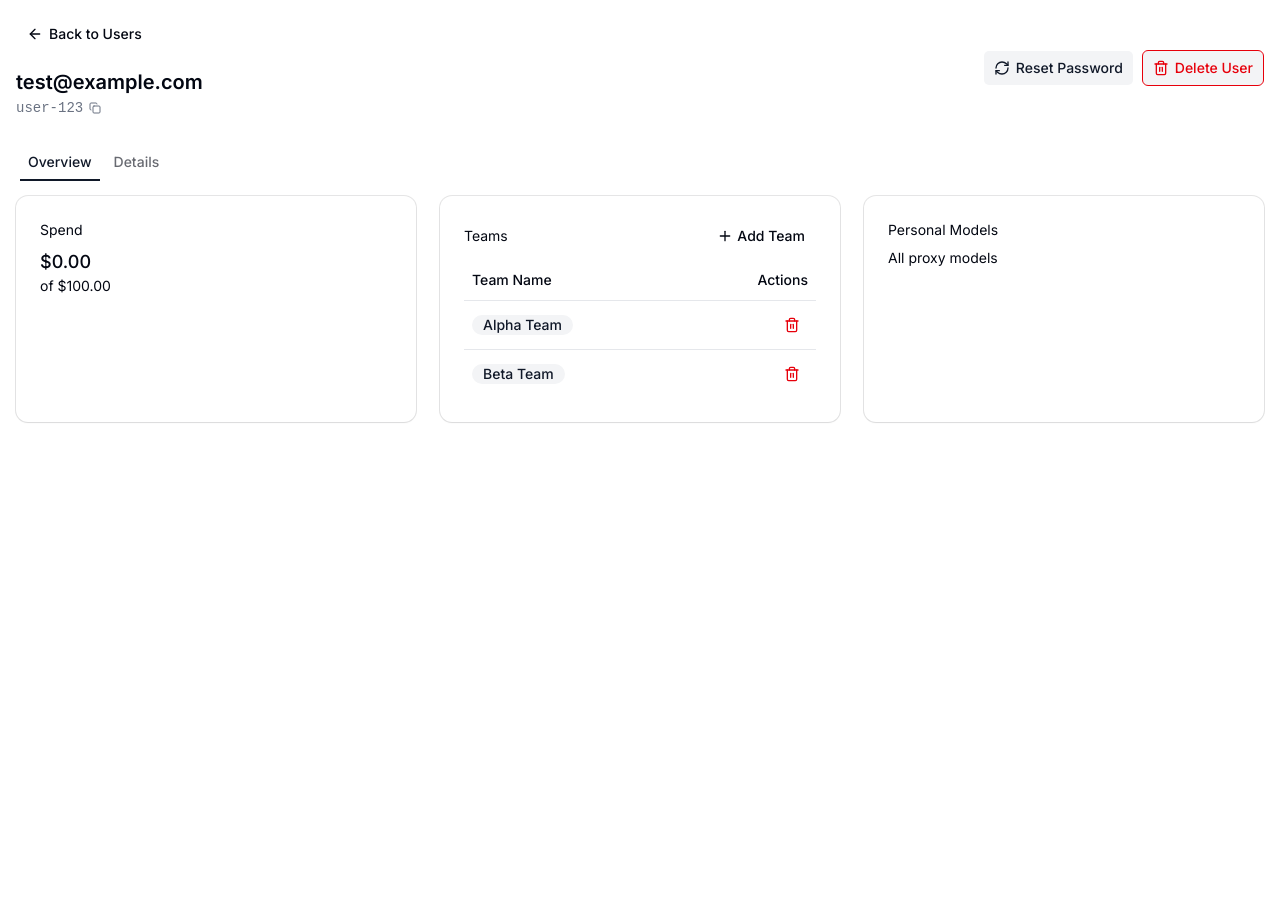
Test: UserInfoView › should open the add team modal when Add Team is clicked
This screenshot has width=1280, height=900.
Step 1. Click the button "Add Team" → (761, 236), box [706,220,816,252]
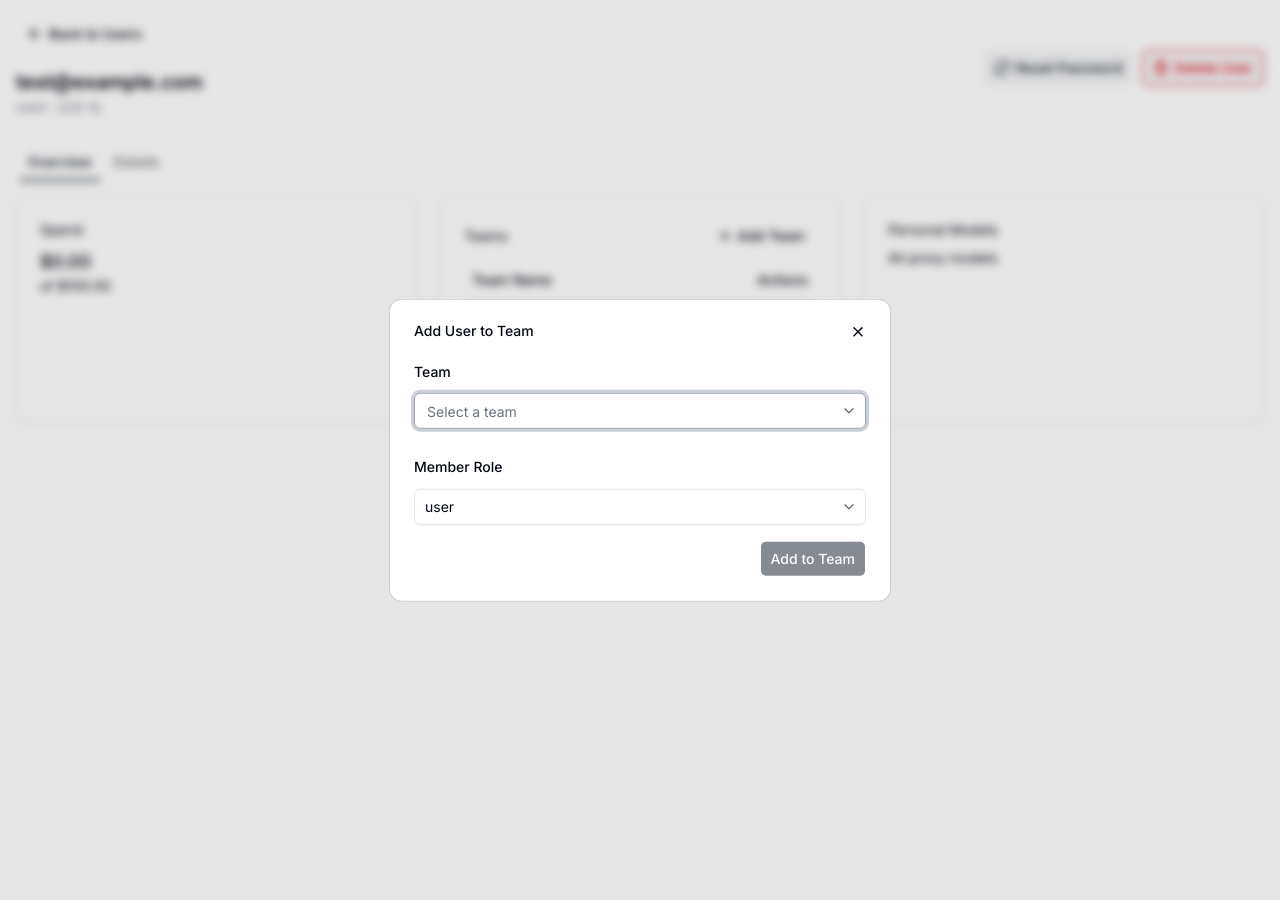
Check: the heading "Add User to Team" is shown, box [414,322,534,339]
